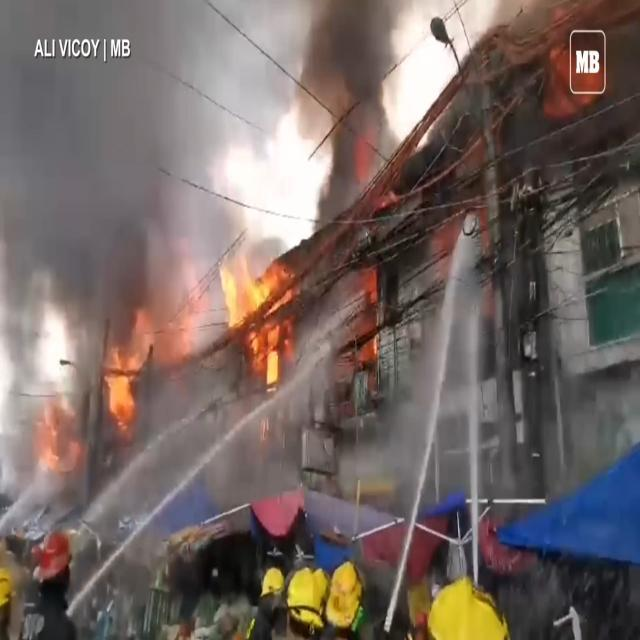Fire: (96, 292, 208, 442), (219, 241, 301, 399), (430, 195, 496, 338), (534, 13, 604, 118), (342, 239, 384, 395), (348, 130, 394, 220), (40, 395, 83, 480)
Smoke: (0, 0, 263, 440), (288, 0, 410, 231)
